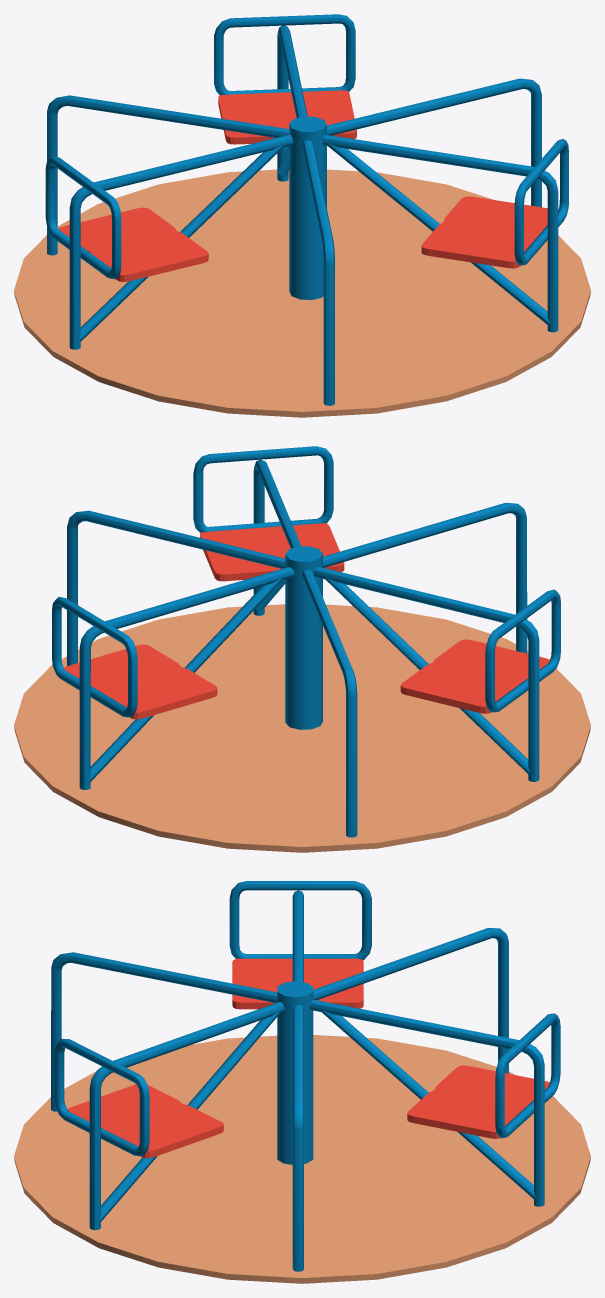
File: Swings.fbx
The picture shows the model from 3 angles, top to bottom: view 1: azimuth 30°, elevation 25°; view 2: azimuth 150°, elevation 25°; view 3: azimuth 270°, elevation 25°; orthographic projection.
Visible parts, largest first — view 1: SM_Swings_02__1_; view 2: SM_Swings_02__1_; view 3: SM_Swings_02__1_.
Boxes of the visible parts, left/top/right/bottom form: SM_Swings_02__1_: left=14, top=14, right=590, bottom=417; SM_Swings_02__1_: left=14, top=446, right=590, bottom=852; SM_Swings_02__1_: left=14, top=881, right=590, bottom=1283.
Size of the model in its own units: 7403 by 2915 by 7403.
